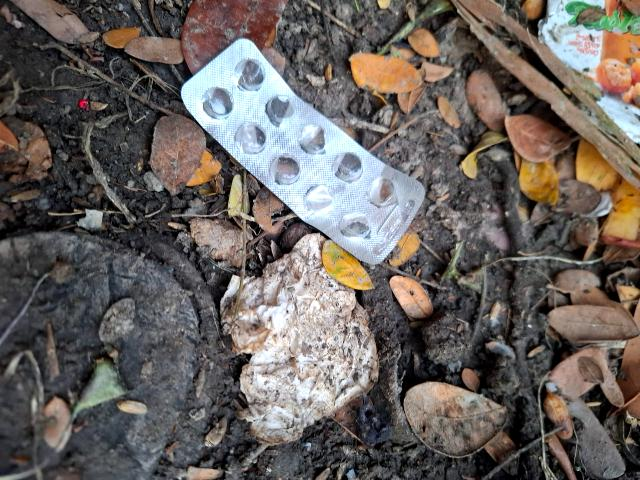medicine: (170, 39, 444, 273)
